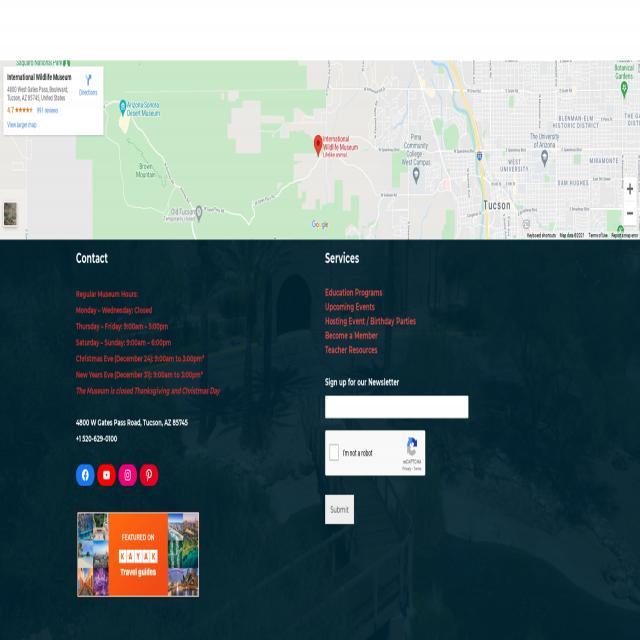button: (76, 512, 200, 598), (325, 495, 354, 524), (81, 468, 89, 483), (102, 468, 110, 483), (124, 468, 132, 483), (145, 468, 153, 483)
field: (325, 396, 469, 418)
